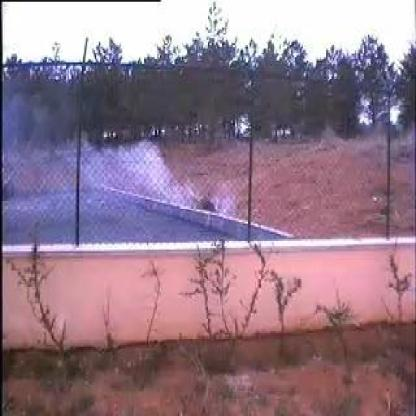-: (42, 110, 204, 236)
